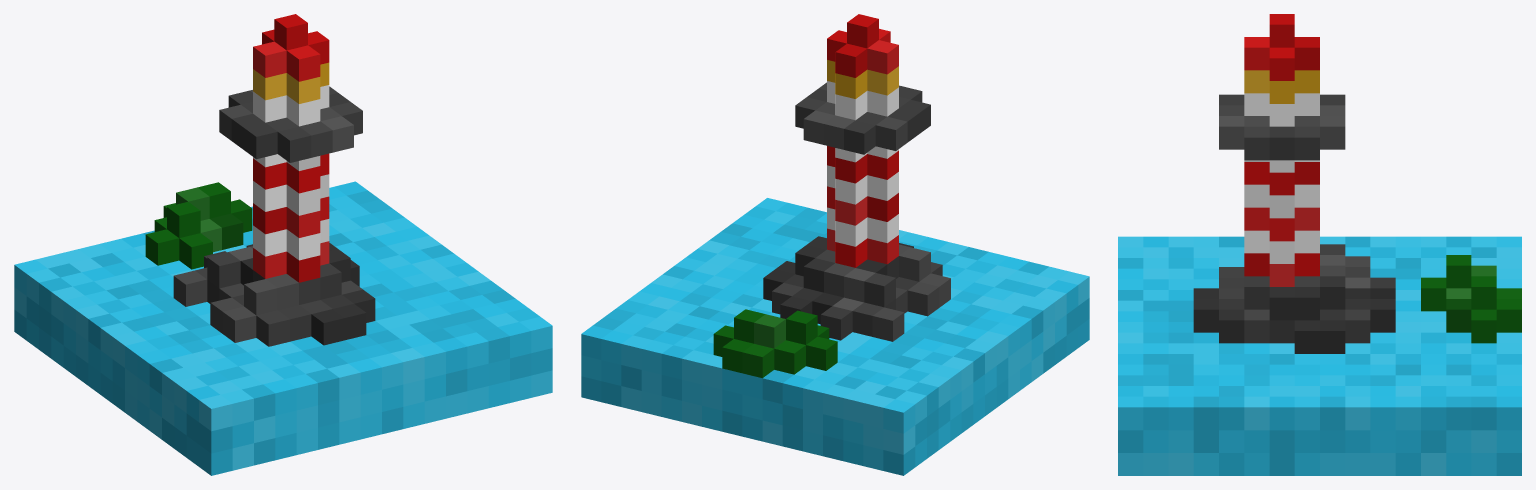
The model's file is lighthouse.obj.
The picture shows the model from 3 angles, left to right: view 1: azimuth 30°, elevation 25°; view 2: azimuth 150°, elevation 25°; view 3: azimuth 270°, elevation 25°; orthographic projection. The views are drawn at different scales.
Parts seen in each view (by area): view 1: Lighthouse; view 2: Lighthouse; view 3: Lighthouse.
Boxes of the visible parts, bbox=[...] form: Lighthouse: bbox=[14, 14, 552, 475]; Lighthouse: bbox=[581, 14, 1089, 475]; Lighthouse: bbox=[1118, 14, 1521, 475].
Bounding box in the file's own units: 16 × 16 × 16.
1 material, 1 textured.
